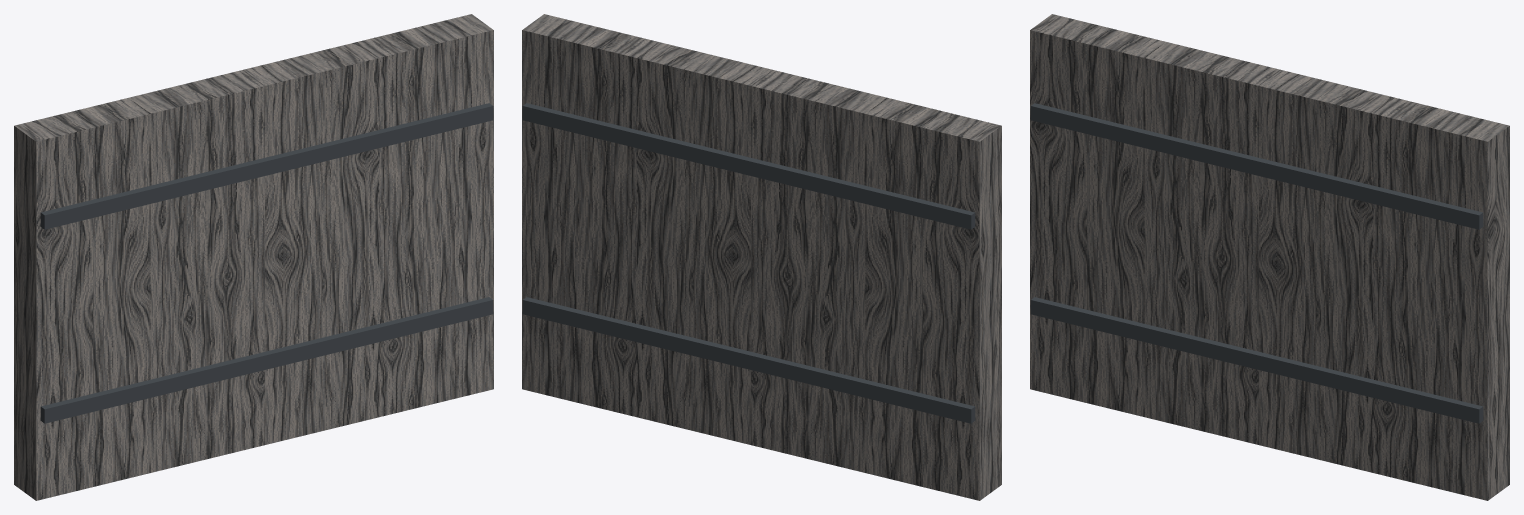
Rendered from door_wood.glb.
3 views of the same model, side by side, from view 1: azimuth 30°, elevation 25°; view 2: azimuth 150°, elevation 25°; view 3: azimuth 330°, elevation 25° (orthographic).
Parts seen in each view (by area): view 1: Oak_Plank, Oak_Plank.007, Oak_Plank.002, Oak_Plank.005, Oak_Plank.004, Oak_Plank.001, Oak_Plank.006, Oak_Plank.003, Continuous_Iron_Strap, Continuous_Iron_Strap.001; view 2: Oak_Plank, Oak_Plank.007, Oak_Plank.002, Oak_Plank.005, Oak_Plank.004, Oak_Plank.001, Oak_Plank.006, Oak_Plank.003, Continuous_Iron_Strap.002, Continuous_Iron_Strap.003; view 3: Oak_Plank.007, Oak_Plank, Oak_Plank.002, Oak_Plank.005, Oak_Plank.003, Oak_Plank.006, Oak_Plank.001, Oak_Plank.004, Continuous_Iron_Strap, Continuous_Iron_Strap.001.
Part boxes in pixels (x1,y1,x2,y2): Oak_Plank: (14,111,93,500); Oak_Plank.007: (415,14,493,402); Oak_Plank.002: (129,84,207,472); Oak_Plank.005: (300,42,379,430); Oak_Plank.004: (243,56,322,444); Oak_Plank.001: (72,98,150,486); Oak_Plank.006: (358,28,436,416); Oak_Plank.003: (186,70,264,458); Continuous_Iron_Strap: (40,297,493,423); Continuous_Iron_Strap.001: (40,103,493,229); Oak_Plank: (922,111,1001,500); Oak_Plank.007: (522,14,600,402); Oak_Plank.002: (808,84,886,472); Oak_Plank.005: (636,42,715,430); Oak_Plank.004: (693,56,772,444); Oak_Plank.001: (865,98,943,486); Oak_Plank.006: (579,28,657,416); Oak_Plank.003: (751,70,829,458); Continuous_Iron_Strap.002: (522,297,975,423); Continuous_Iron_Strap.003: (522,103,975,229); Oak_Plank.007: (1430,111,1509,500); Oak_Plank: (1030,14,1108,402); Oak_Plank.002: (1144,42,1223,430); Oak_Plank.005: (1316,84,1394,472); Oak_Plank.003: (1201,56,1280,444); Oak_Plank.006: (1373,98,1451,486); Oak_Plank.001: (1087,28,1165,416); Oak_Plank.004: (1259,70,1337,458); Continuous_Iron_Strap: (1030,297,1483,423); Continuous_Iron_Strap.001: (1030,103,1483,229).
Size of the model in its own units: 6 by 4.5 by 0.68.
2 materials, 1 textured.
